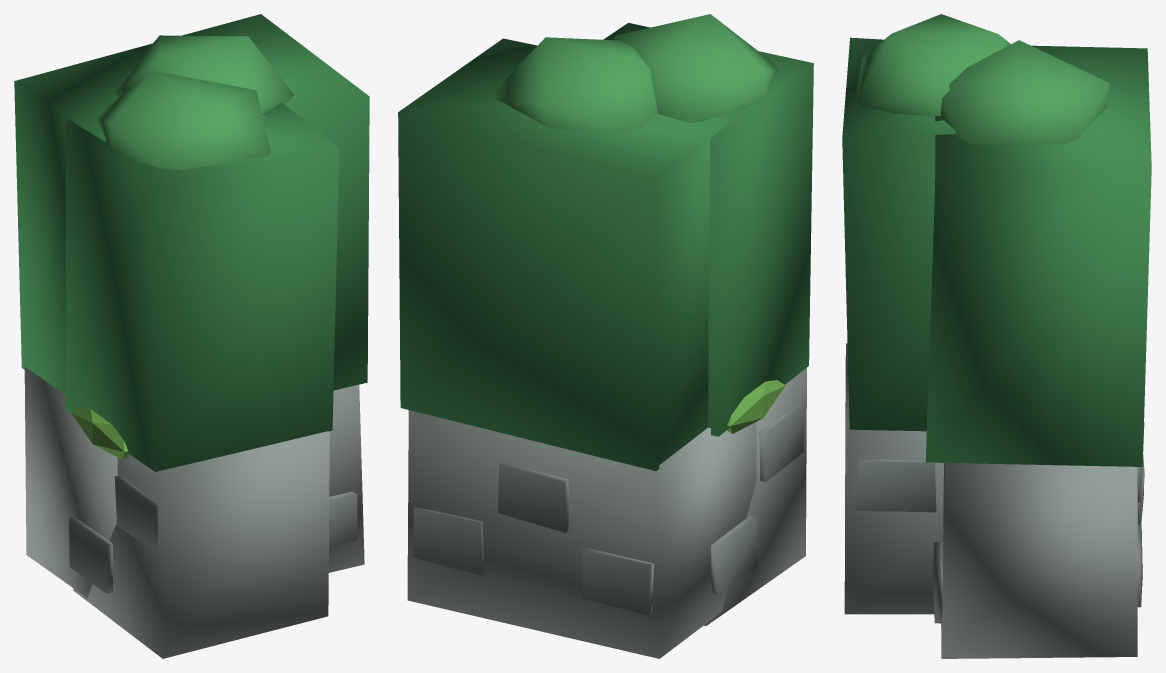
File: stage1_wall_corner.glb
3 views of the same model, side by side, from view 1: azimuth 30°, elevation 25°; view 2: azimuth 150°, elevation 25°; view 3: azimuth 270°, elevation 25° (orthographic). The views are drawn at different scales.
Parts seen in each view (by area): view 1: stage1_wall_corner_hedge, stage1_wall_corner_stone, stage1_wall_corner_hedge2, stage1_wall_corner_stone2, stage1_wall_corner_moss; view 2: stage1_wall_corner_hedge, stage1_wall_corner_stone, stage1_wall_corner_hedge2, stage1_wall_corner_stone2, stage1_wall_corner_moss; view 3: stage1_wall_corner_hedge, stage1_wall_corner_stone, stage1_wall_corner_hedge2, stage1_wall_corner_stone2.
Part boxes in pixels (box(x1,y1,x2,y2)): stage1_wall_corner_hedge: box(14, 14, 369, 471); stage1_wall_corner_stone: box(24, 367, 364, 658); stage1_wall_corner_hedge2: box(96, 35, 294, 170); stage1_wall_corner_stone2: box(69, 475, 357, 593); stage1_wall_corner_moss: box(71, 408, 129, 459); stage1_wall_corner_hedge: box(398, 23, 813, 470); stage1_wall_corner_stone: box(407, 368, 806, 658); stage1_wall_corner_hedge2: box(492, 14, 778, 131); stage1_wall_corner_stone2: box(413, 404, 804, 615); stage1_wall_corner_moss: box(727, 380, 785, 433); stage1_wall_corner_hedge: box(842, 37, 1151, 466); stage1_wall_corner_stone: box(844, 343, 1137, 658); stage1_wall_corner_hedge2: box(855, 14, 1109, 144); stage1_wall_corner_stone2: box(856, 422, 1144, 623).
Size of the model in its own units: 0.8148 by 1.54 by 0.8034.
